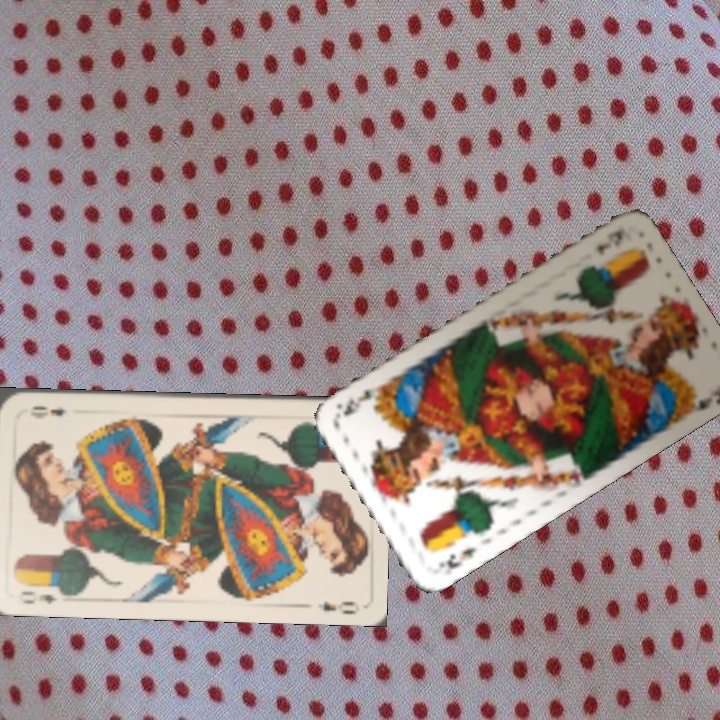EK: (434, 543, 480, 572), (592, 225, 627, 257)
EO: (18, 587, 60, 607)
